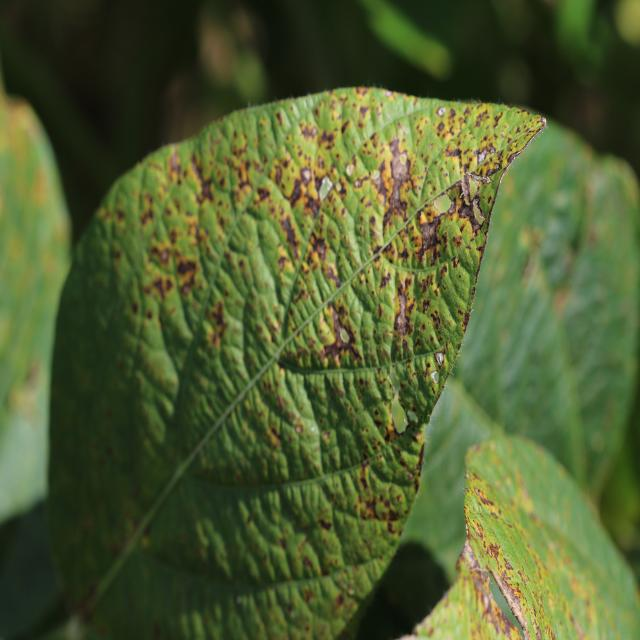Bacterial_Blight: (196, 176, 256, 300), (376, 169, 445, 259), (329, 106, 441, 153), (146, 228, 199, 314), (303, 351, 434, 379), (493, 124, 547, 179), (214, 96, 322, 122), (390, 271, 424, 348), (322, 258, 362, 308), (205, 304, 233, 349), (469, 221, 494, 267), (464, 559, 501, 590), (21, 361, 41, 394), (412, 439, 427, 478), (466, 171, 494, 188), (472, 196, 486, 224), (319, 176, 333, 198), (532, 621, 546, 640), (537, 115, 548, 130), (401, 415, 409, 429), (465, 521, 470, 539), (496, 97, 505, 107), (407, 470, 415, 480), (425, 412, 432, 423), (463, 485, 470, 494), (246, 100, 252, 108)
Soybean: (50, 88, 546, 640)
